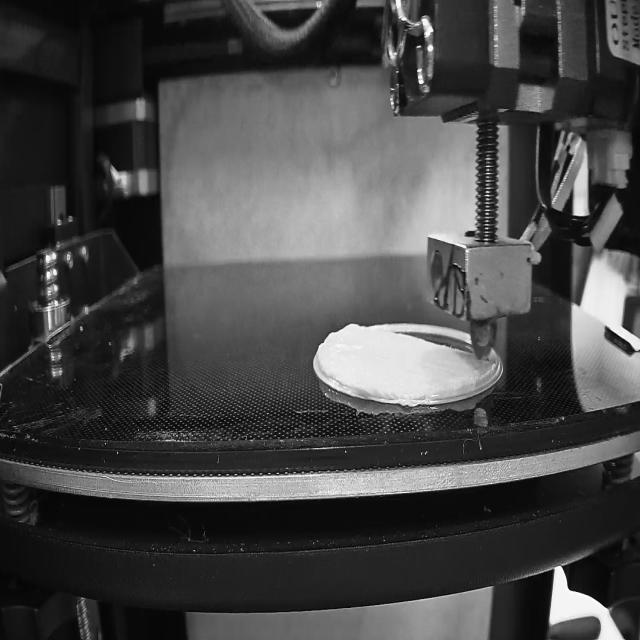over_extrusion: (315, 316, 362, 377)
